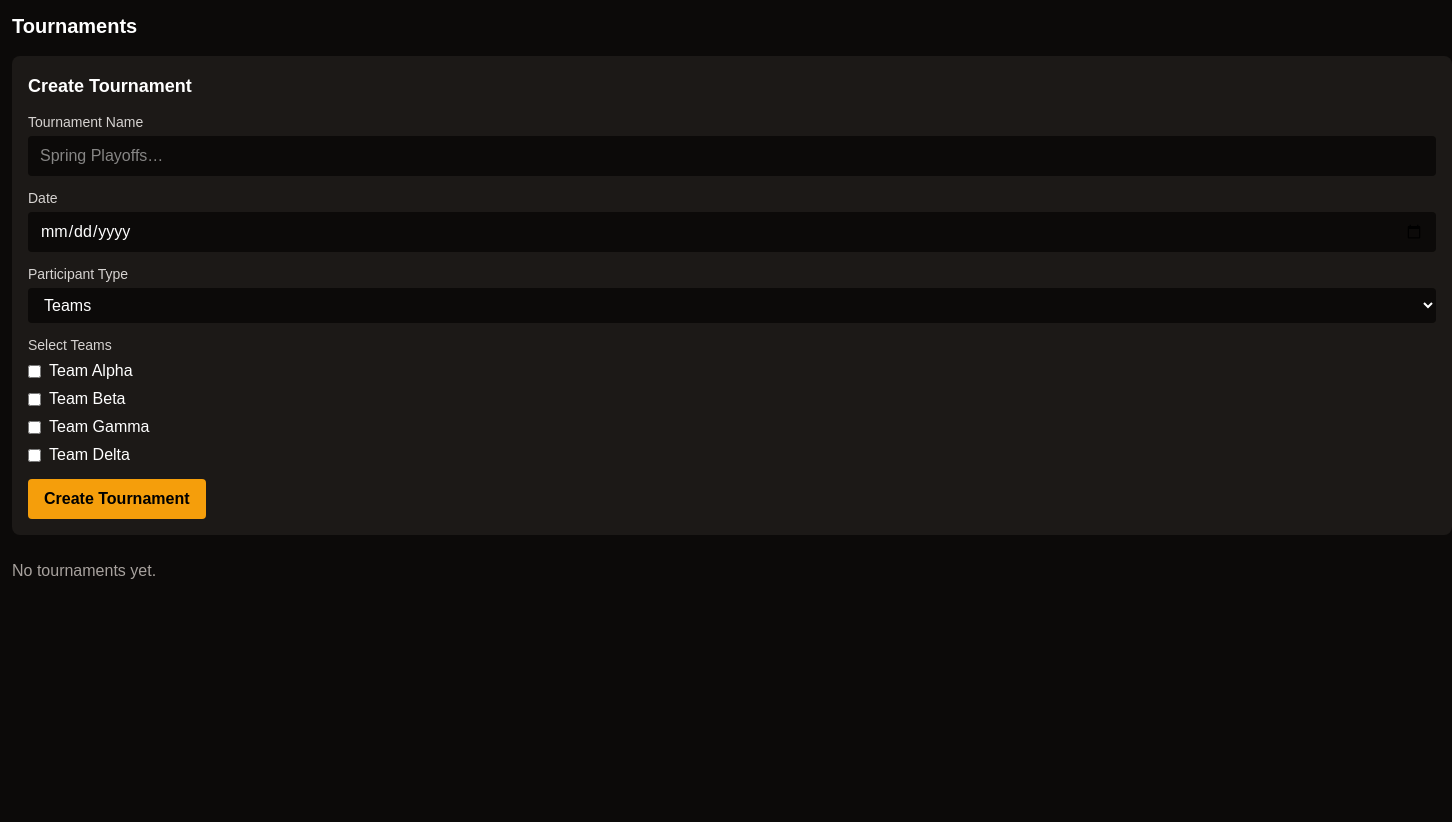
Test: TournamentPage › validates minimum participants
Type "Test Tourney" into the field with placeholder "Spring Playoffs…". click: (732, 156)
box: left=28, top=136, right=1436, bottom=176
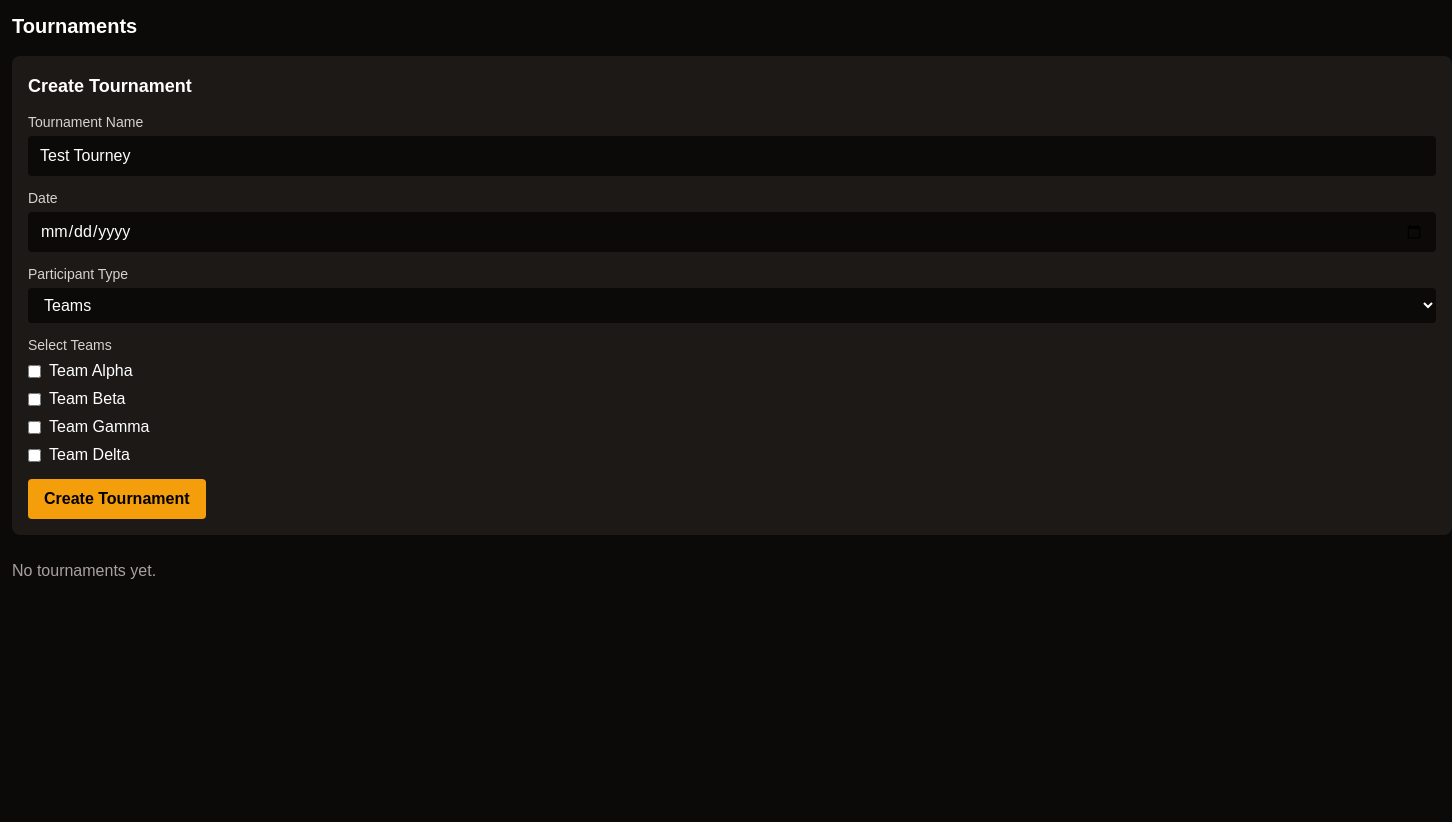
Type "2026-04-15" into the date field labelled "Date". click: (732, 232)
box: left=28, top=212, right=1436, bottom=252
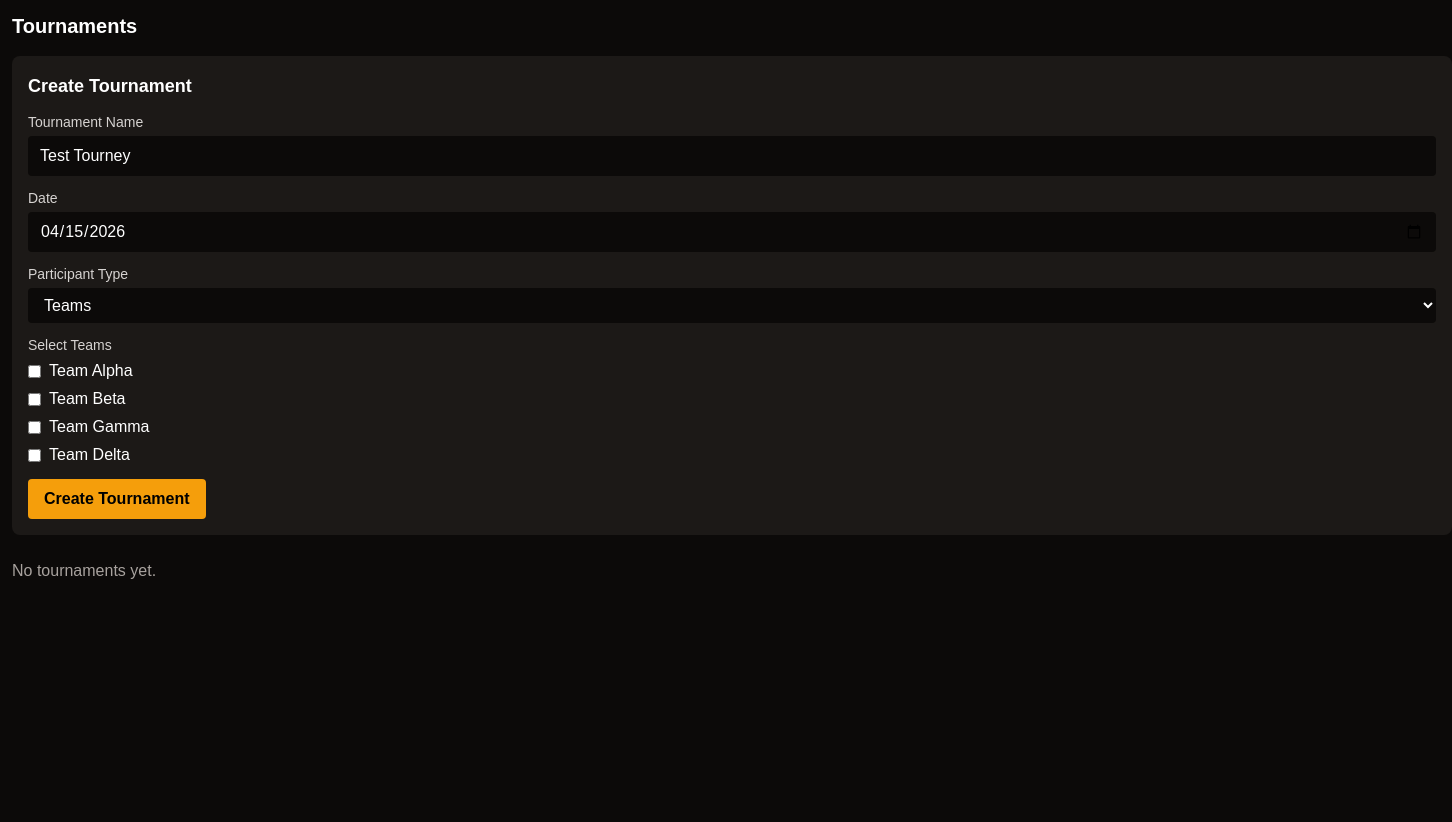
Click the checkbox labelled "Team Alpha". click: (34, 371)
box: left=28, top=364, right=41, bottom=378
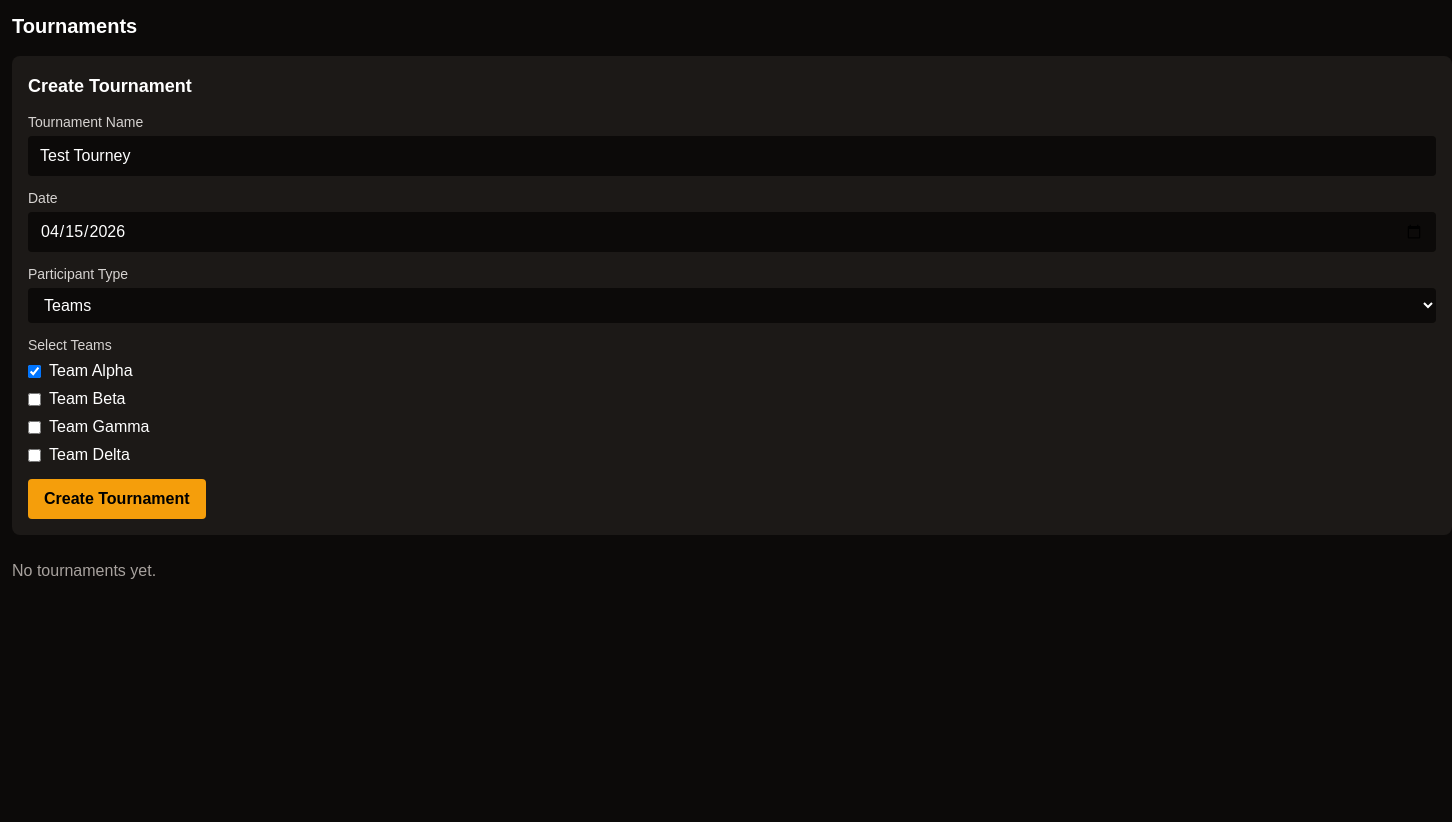
Click the button "Create Tournament". click: (117, 499)
box: left=28, top=479, right=206, bottom=519
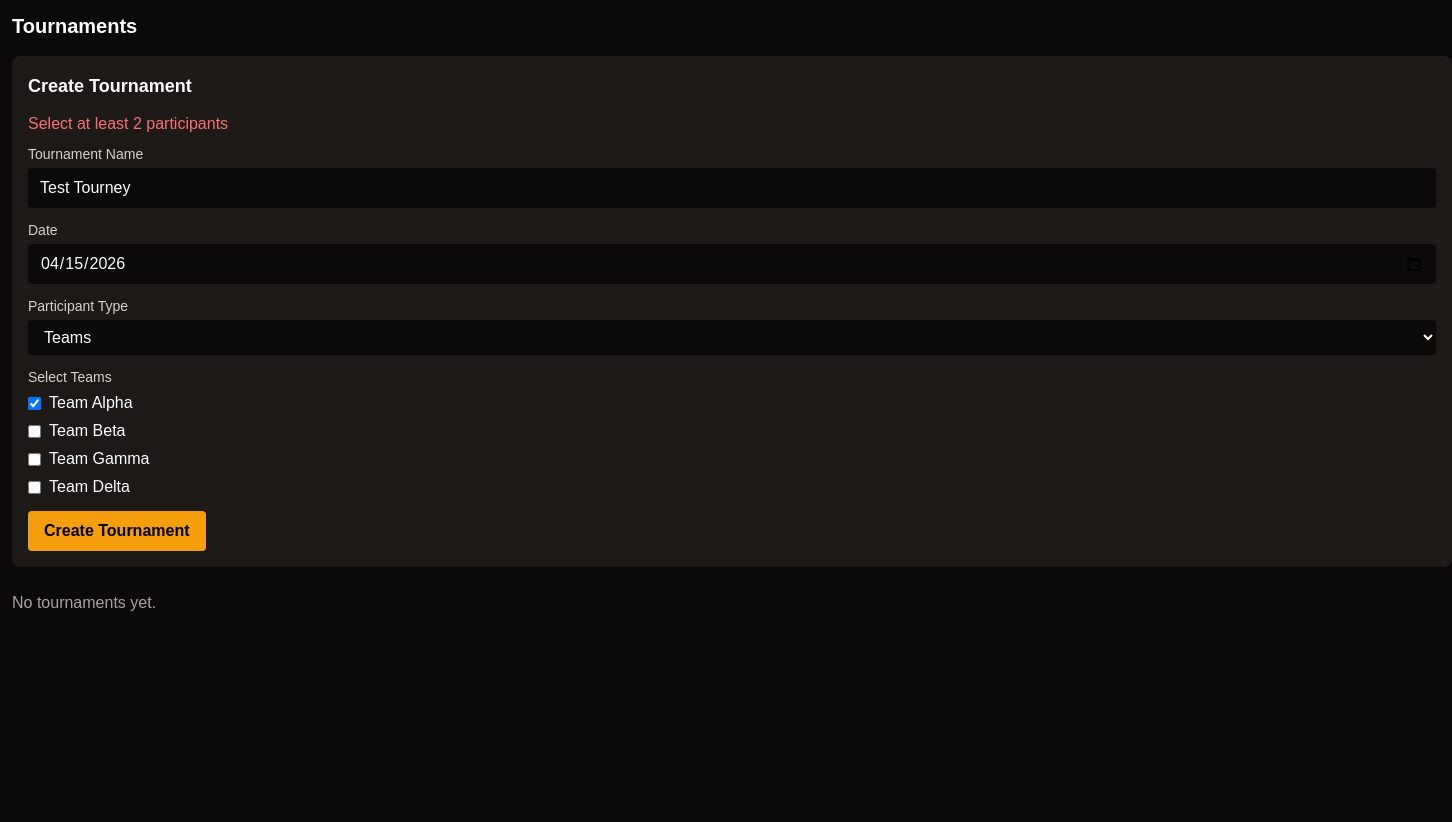
Expected: the text "Select at least 2 participants" is shown, left=28, top=115, right=228, bottom=132
